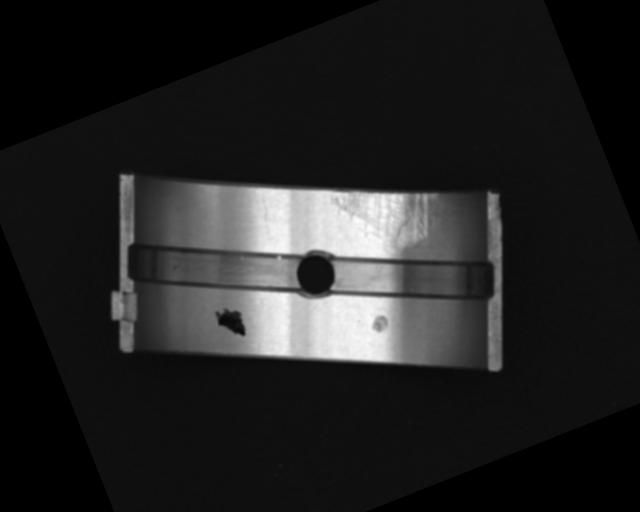blot: (211, 300, 250, 343)
bruise: (368, 310, 392, 335)
gap: (120, 190, 315, 345), (322, 203, 506, 350)
hole: (283, 241, 345, 307)
nick: (249, 191, 280, 237)
scratch: (326, 153, 454, 269)
